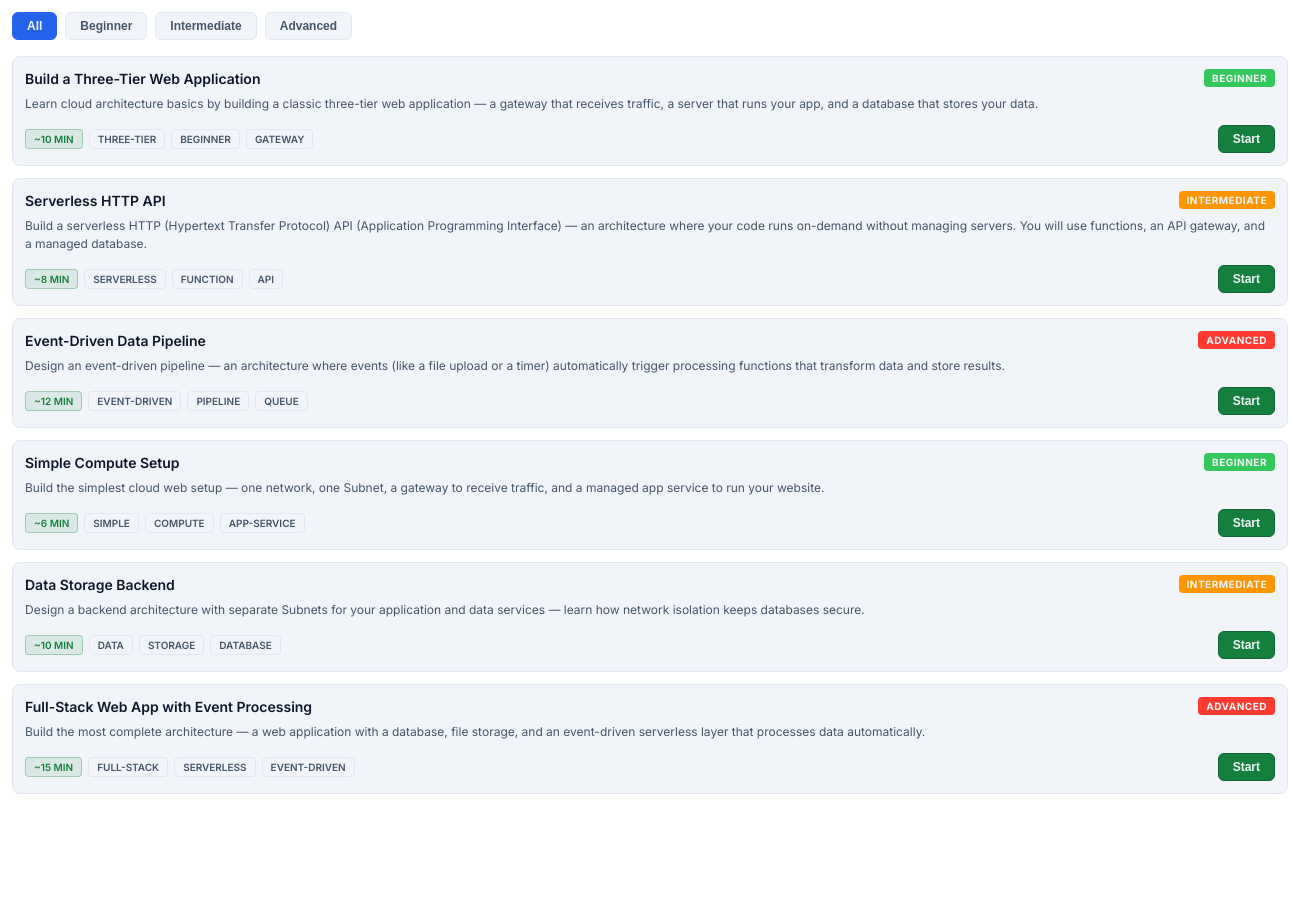
Test: ScenarioGallery › Intermediate filter shows only intermediate scenarios
Click the button "Intermediate" at [206, 26], box x1=155 y1=12 x2=257 y2=40
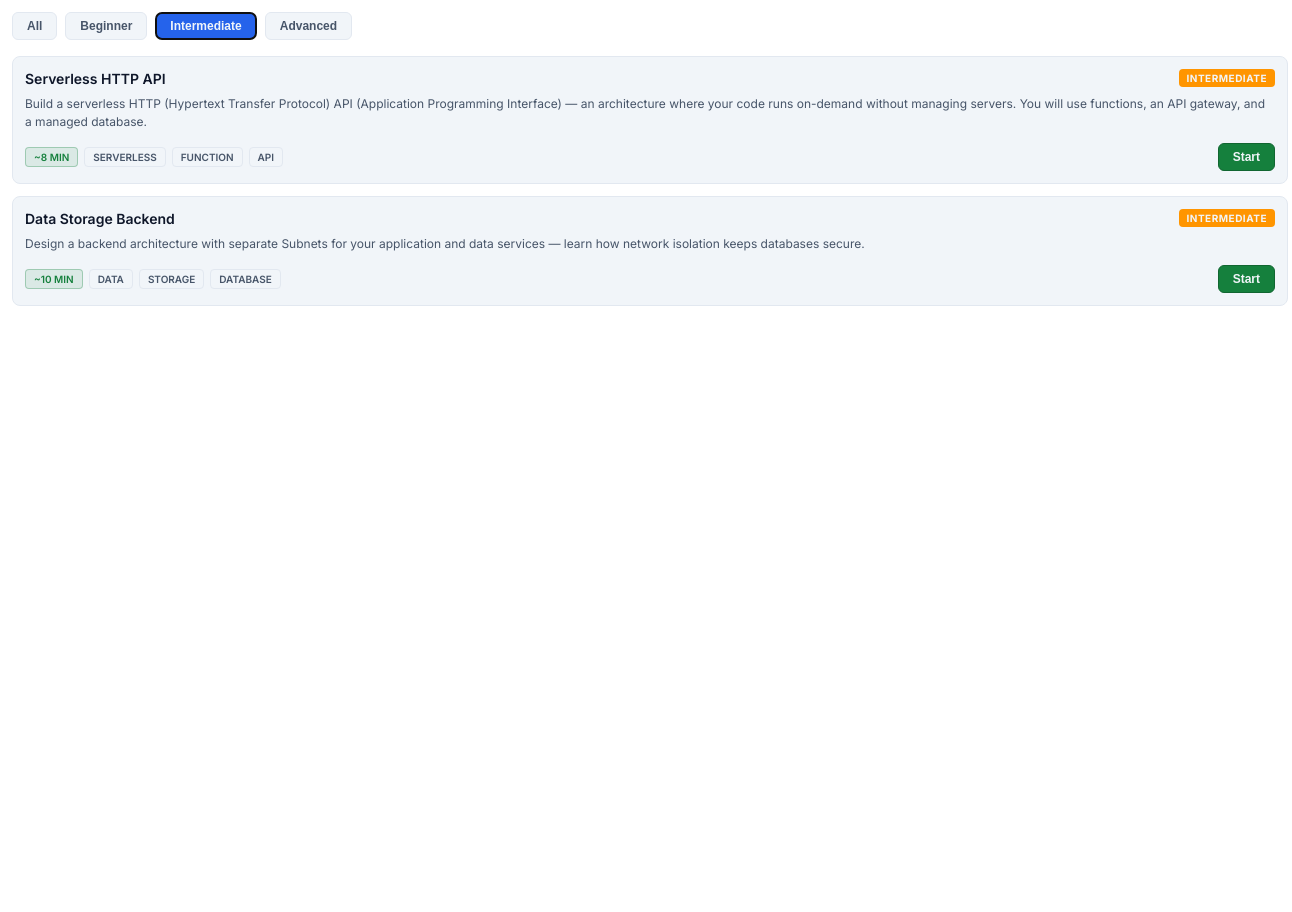
Expected: the text "Serverless HTTP API" is shown, x1=25 y1=70 x2=166 y2=86
Result: the text "Build a Three-Tier Web Application" is gone
Result: the text "Event-Driven Data Pipeline" is gone
